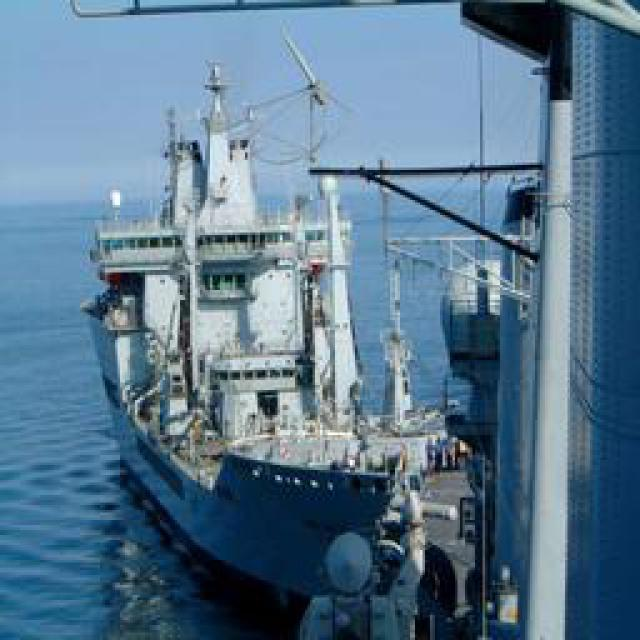Ship: (82, 20, 515, 608)
